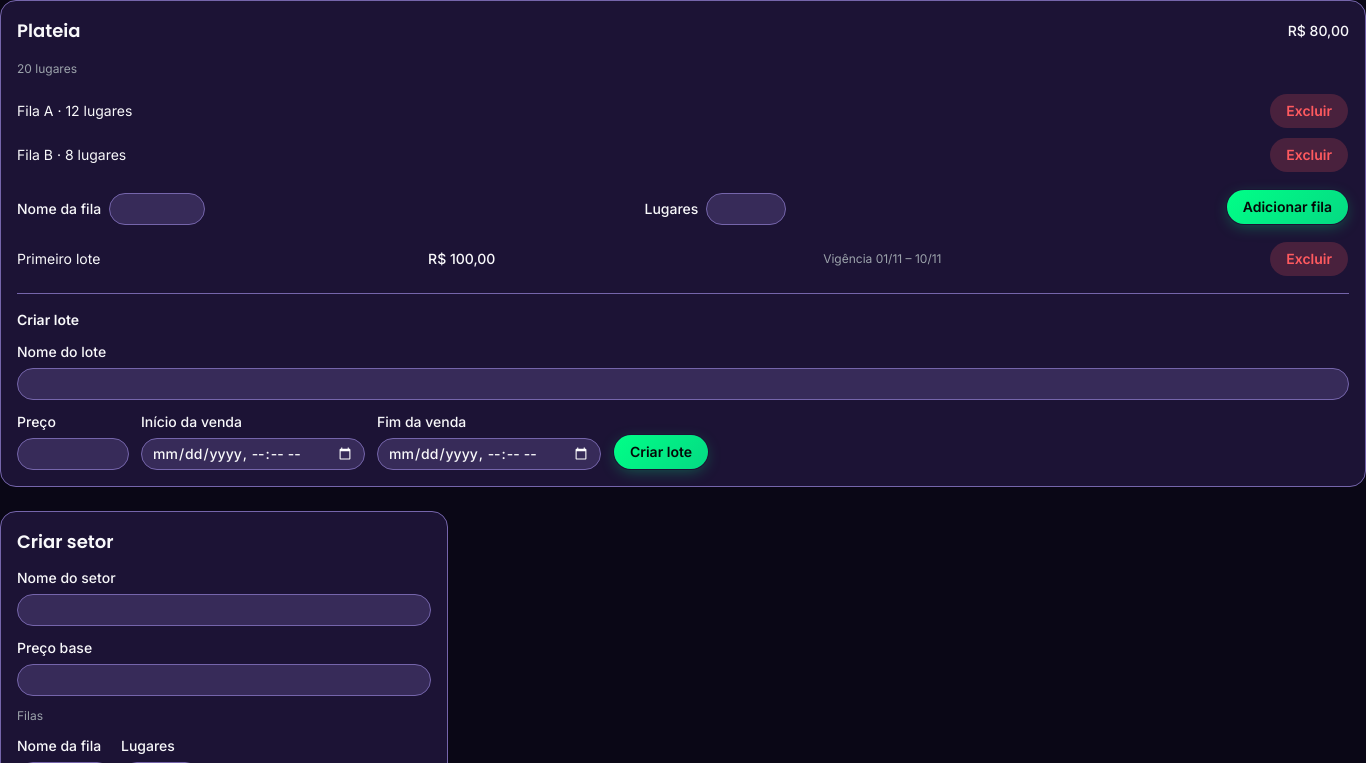
Test: OrganizerSectorEditor › mostra o conflito de período ao criar lote
In the field labelled "Nome do lote": (683,384) [17,368,1349,400], type "Segundo lote"
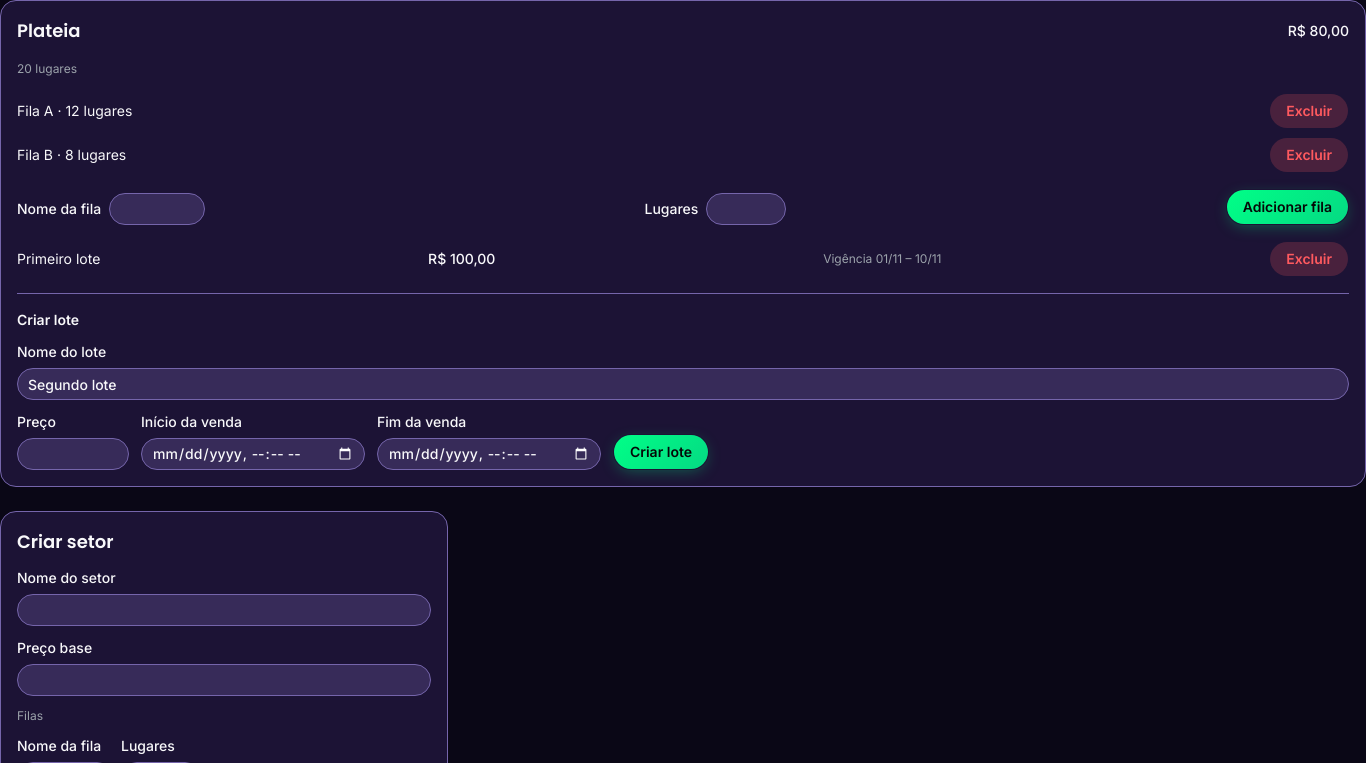
In the number field labelled "Preço": (73,454) [17,438,129,470], type "150"
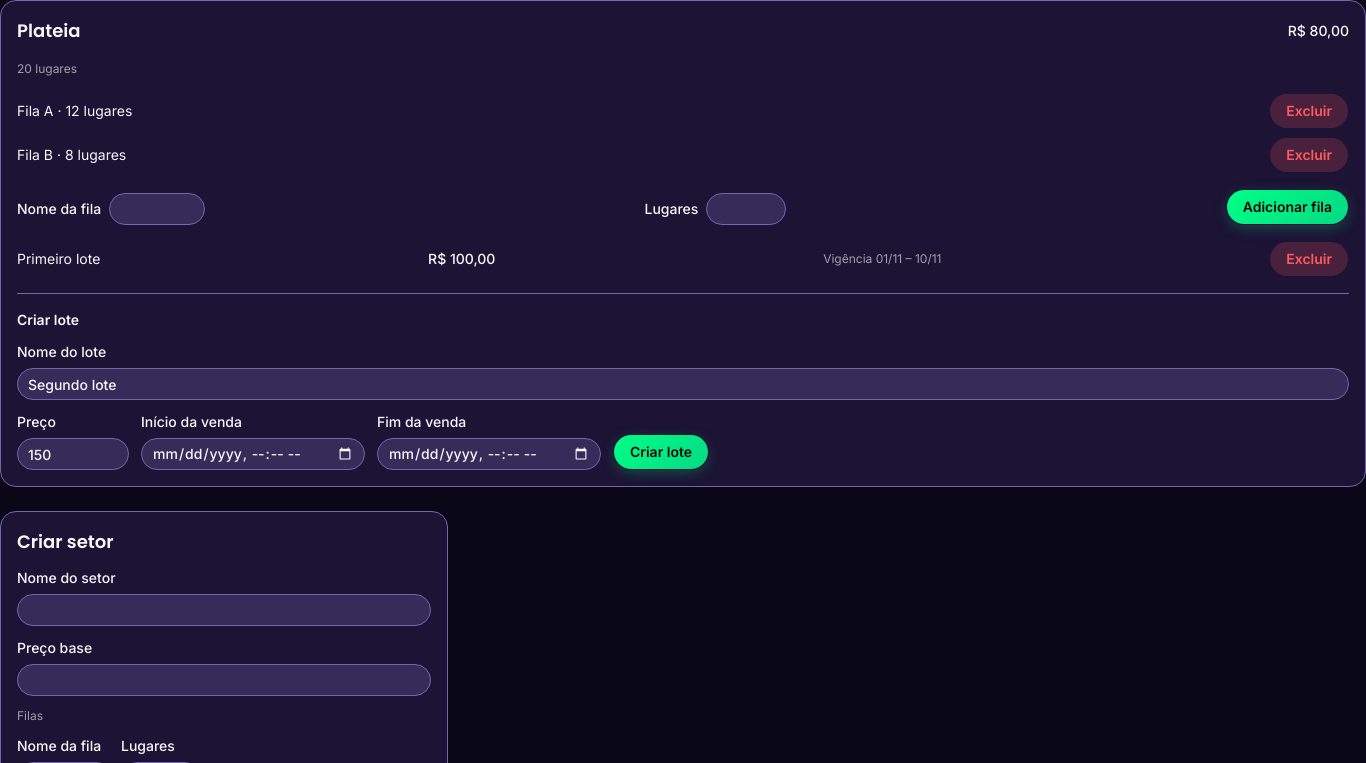
In the field labelled "Início da venda": (253,454) [141,438,365,470], type "2026-11-11T10:00"
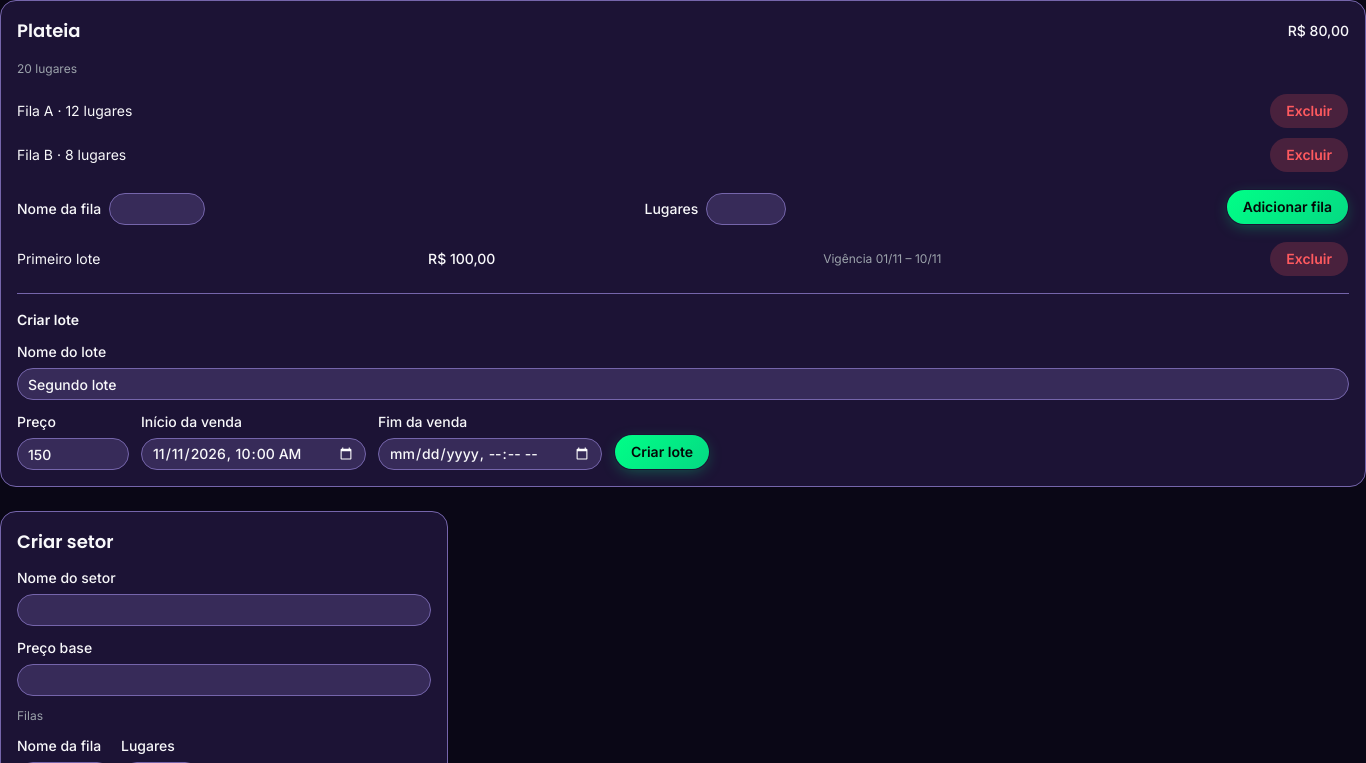
In the field labelled "Fim da venda": (490,454) [378,438,602,470], type "2026-11-19T23:59"
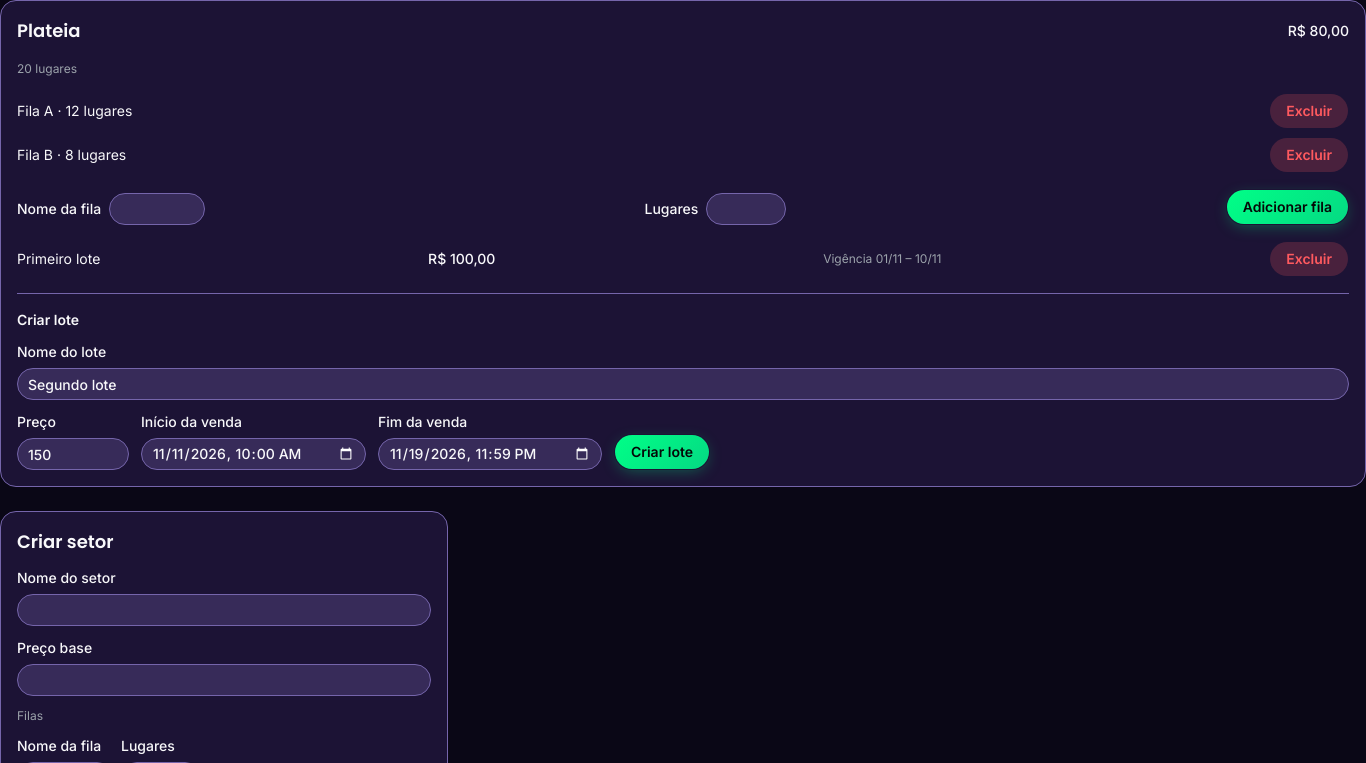
Click the button "Criar lote": (662,452) [614,434,710,470]
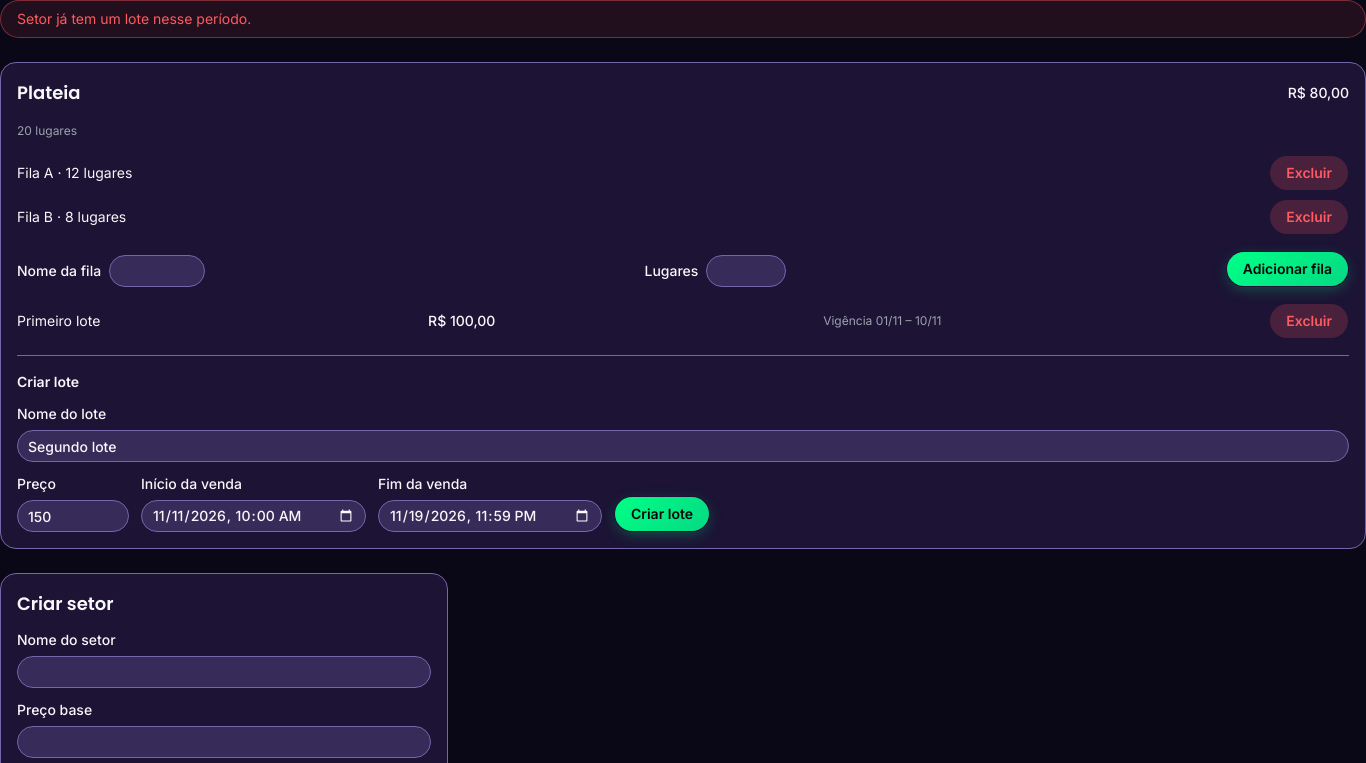
Check: the text "Setor já tem um lote nesse período." is shown, box [0,0,1365,38]
